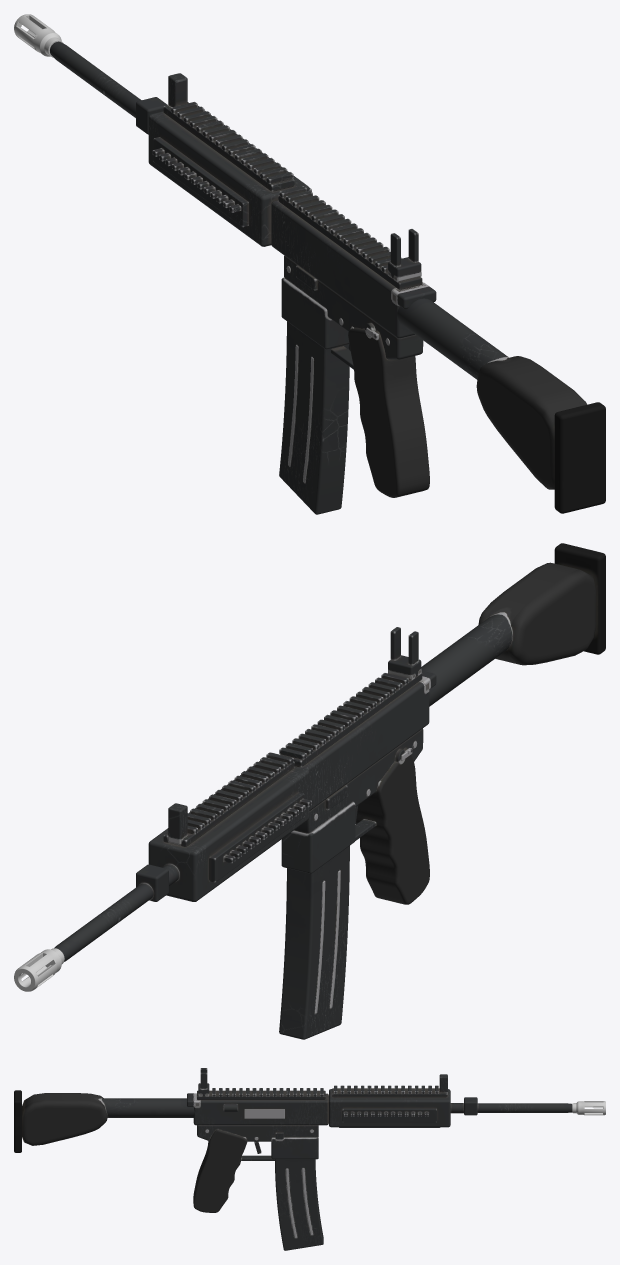
3 renders of one model, top to bottom at view 1: azimuth 30°, elevation 25°; view 2: azimuth 150°, elevation 25°; view 3: azimuth 270°, elevation 25°, orthographic. The views are drawn at different scales.
Visible parts, largest first — view 1: Frame, Stock, Mag_body, FlashHider; view 2: Frame, Stock, Mag_body, FlashHider; view 3: Frame, Stock, Mag_body, FlashHider.
Part boxes in pixels (left/top/right/bottom): Frame: left=50, top=41, right=436, bottom=497; Stock: left=397, top=298, right=605, bottom=513; Mag_body: left=279, top=321, right=349, bottom=514; FlashHider: left=14, top=14, right=63, bottom=57; Frame: left=54, top=627, right=436, bottom=961; Stock: left=421, top=543, right=605, bottom=706; Mag_body: left=279, top=846, right=349, bottom=1039; FlashHider: left=14, top=948, right=64, bottom=991; Frame: left=187, top=1068, right=572, bottom=1212; Stock: left=14, top=1090, right=194, bottom=1152; Mag_body: left=275, top=1159, right=323, bottom=1250; FlashHider: left=572, top=1101, right=605, bottom=1115.
Size of the model in its own units: 0.072 by 0.2891 by 0.876.
